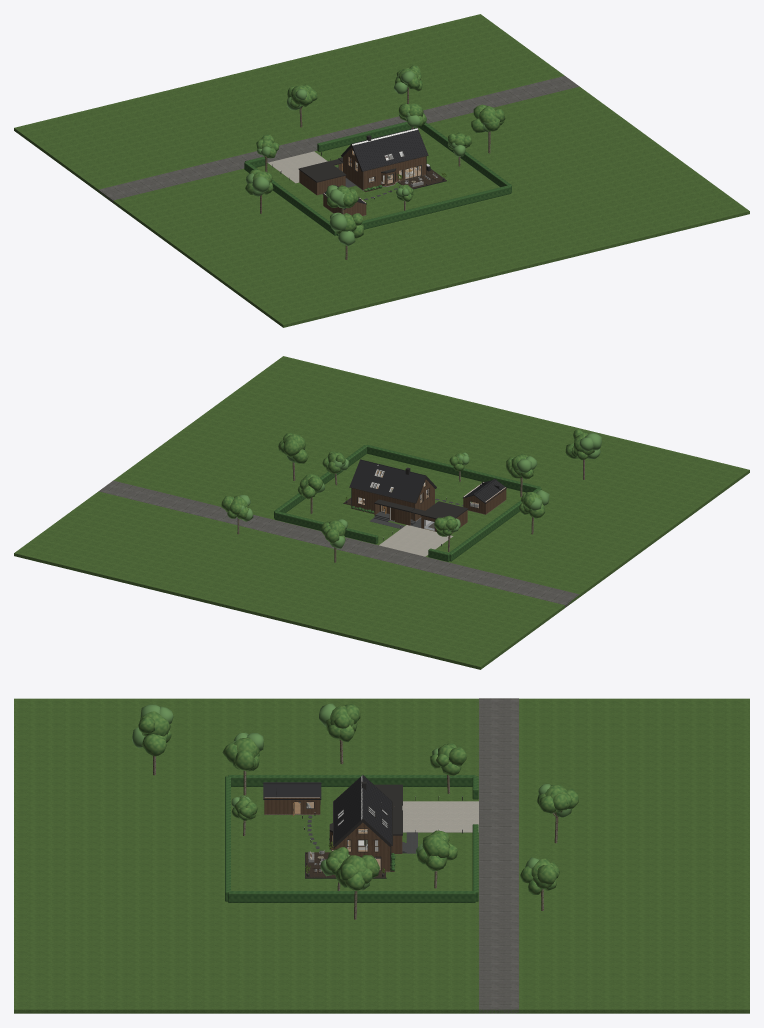
The model's file is eikhus.glb.
3 renders of one model, top to bottom at view 1: azimuth 30°, elevation 25°; view 2: azimuth 150°, elevation 25°; view 3: azimuth 270°, elevation 25°, orthographic. The views are drawn at different scales.
Parts seen in each view (by area): view 1: W Gress.001|19990, W Gress.001|-9980, W Asfalt.001|-9980, W Asfalt.001|20020, W Plannja sort|2, W Hekk|9980, W Gress.001|19950, W Gress.001|-10050, W Plannja sort|10002, W Hekk|10020, W Hekk|-10020, W Løv|30002 (+4 smaller); view 2: W Gress.001|-9980, W Gress.001|19990, W Asfalt.001|-9980, W Asfalt.001|20020, W Hekk|9980, W Gress.001|-9940, W Gress.001|20060, W Hekk|-10020, W Hekk|10020, W Grus.001|-9980, W Grus.001|-9990, W Plannja sort|2 (+5 smaller); view 3: W Gress.001|19990, W Gress.001|-9980, W Asfalt.001|20020, W Asfalt.001|-9980, W Gress.001|60020, W Gress.001|59990, W Hekk|19990, W Hekk|20010, W Hekk|-19990, W Hekk|-20010, W Grus.001|-9980, W Grus.001|-9990 (+10 smaller).
Boxes of the visible parts, box(x1,y1,x2,y2) form: W Gress.001|19990: box(283, 14, 749, 324); W Gress.001|-9980: box(14, 14, 480, 324); W Asfalt.001|-9980: box(99, 77, 558, 200); W Asfalt.001|20020: box(118, 76, 579, 199); W Plannja sort|2: box(352, 131, 403, 170); W Hekk|9980: box(361, 185, 510, 224); W Gress.001|19950: box(299, 211, 749, 321); W Gress.001|-10050: box(283, 219, 727, 327); W Plannja sort|10002: box(361, 127, 427, 162); W Hekk|10020: box(318, 121, 418, 151); W Hekk|-10020: box(338, 188, 506, 235); W Løv|30002: box(473, 104, 505, 131); W Gress.001|-9980: box(15, 470, 749, 666); W Gress.001|19990: box(14, 356, 749, 553); W Asfalt.001|-9980: box(103, 492, 579, 604); W Asfalt.001|20020: box(99, 480, 575, 593); W Hekk|9980: box(366, 445, 527, 492); W Gress.001|-9940: box(31, 557, 480, 669); W Gress.001|20060: box(14, 553, 455, 663); W Hekk|-10020: box(369, 447, 539, 492); W Hekk|10020: box(275, 511, 377, 543); W Grus.001|-9980: box(379, 536, 452, 556); W Grus.001|-9990: box(379, 525, 453, 545); W Plannja sort|2: box(375, 463, 425, 496); W Gress.001|19990: box(14, 698, 749, 1009); W Gress.001|-9980: box(15, 698, 749, 1009); W Asfalt.001|20020: box(479, 700, 518, 1009); W Asfalt.001|-9980: box(479, 698, 518, 1006); W Gress.001|60020: box(61, 1009, 749, 1013); W Gress.001|59990: box(14, 1009, 743, 1013); W Hekk|19990: box(229, 891, 474, 902); W Hekk|20010: box(234, 891, 474, 902); W Hekk|-19990: box(232, 775, 474, 786); W Hekk|-20010: box(229, 775, 472, 786); W Grus.001|-9980: box(403, 801, 478, 831); W Grus.001|-9990: box(402, 802, 472, 832).
Bounding box in the file's own units: 110 × 11.24 × 110.
Materials: 101 (59 with a texture image).
